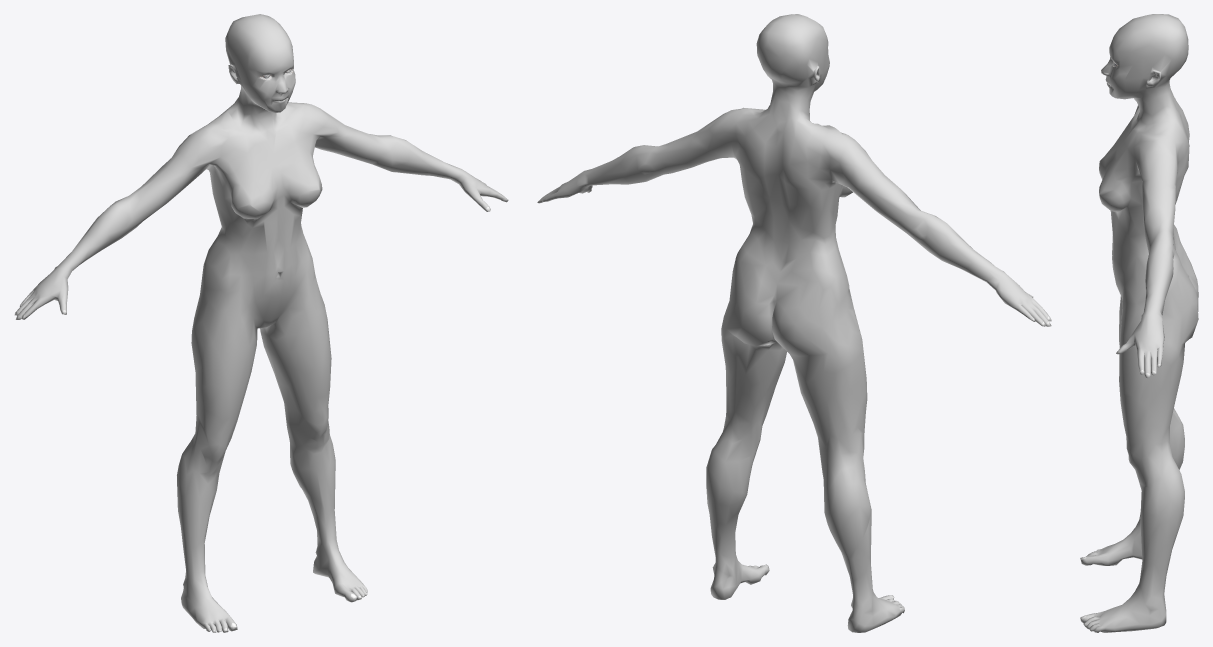
File: sakura_lo.glb
The picture shows the model from 3 angles, left to right: view 1: azimuth 30°, elevation 25°; view 2: azimuth 150°, elevation 25°; view 3: azimuth 270°, elevation 25°; orthographic projection. The views are drawn at different scales.
Visible parts, largest first — view 1: Sakura_LO; view 2: Sakura_LO; view 3: Sakura_LO.
Boxes of the visible parts, x1,y1,x2,y2 form: Sakura_LO: [14, 14, 508, 632]; Sakura_LO: [537, 14, 1051, 632]; Sakura_LO: [1080, 14, 1198, 632].
Size of the model in its own units: 1.38 by 1.54 by 0.2866.
9 materials, 4 textured.
